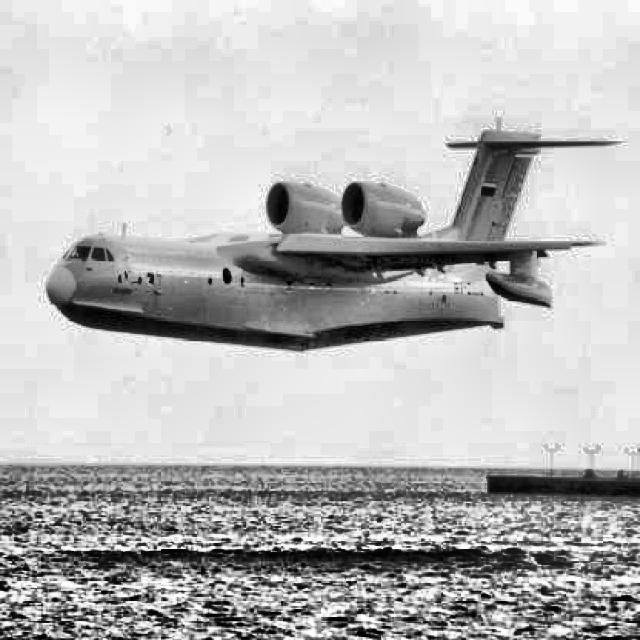Be200: (45, 117, 626, 354)
